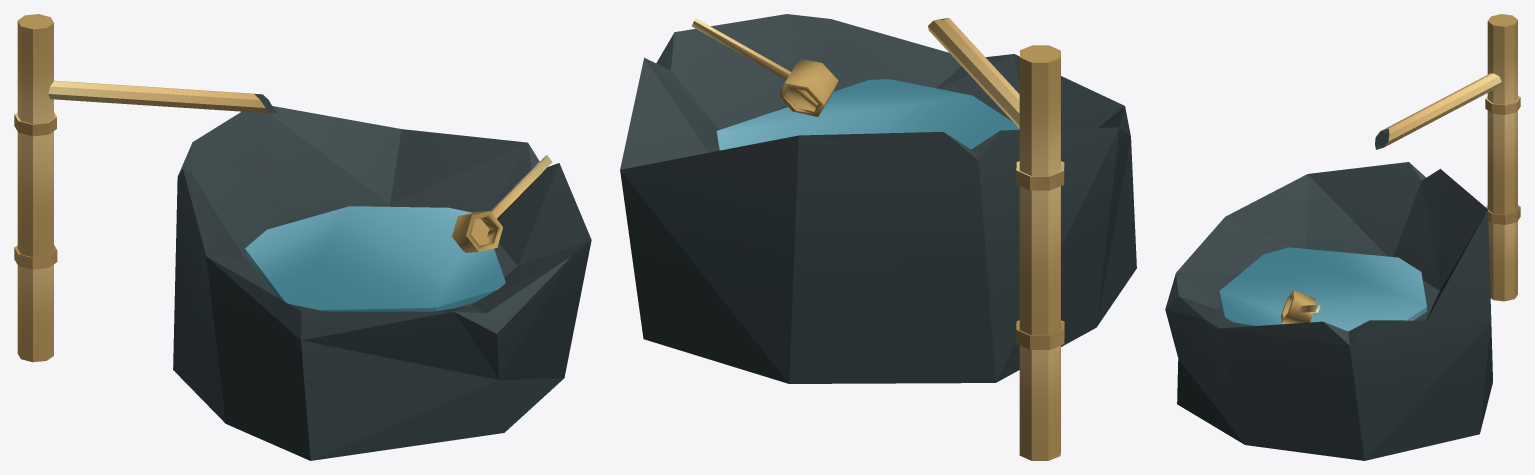
Rendered from WaterBasin.gltf.
3 views of the same model, side by side, from view 1: azimuth 30°, elevation 25°; view 2: azimuth 150°, elevation 25°; view 3: azimuth 270°, elevation 25° (orthographic). The views are drawn at different scales.
Parts seen in each view (by area): view 1: WaterBasin_Stone, WaterBasin_Water, WaterBasin_BambooOutlet, WaterBasin_Ladle; view 2: WaterBasin_Stone, WaterBasin_BambooOutlet, WaterBasin_Water, WaterBasin_Ladle; view 3: WaterBasin_Stone, WaterBasin_Water, WaterBasin_BambooOutlet, WaterBasin_Ladle.
Boxes of the visible parts, left/top/right/bottom form: WaterBasin_Stone: left=173, top=106, right=591, bottom=460; WaterBasin_Water: left=245, top=206, right=505, bottom=311; WaterBasin_BambooOutlet: left=14, top=14, right=277, bottom=362; WaterBasin_Ladle: left=452, top=155, right=552, bottom=252; WaterBasin_Stone: left=620, top=14, right=1136, bottom=383; WaterBasin_BambooOutlet: left=928, top=18, right=1064, bottom=460; WaterBasin_Water: left=716, top=79, right=1019, bottom=150; WaterBasin_Ladle: left=691, top=18, right=838, bottom=116; WaterBasin_Stone: left=1165, top=162, right=1492, bottom=460; WaterBasin_Water: left=1219, top=247, right=1426, bottom=331; WaterBasin_BambooOutlet: left=1375, top=14, right=1520, bottom=301; WaterBasin_Ladle: left=1281, top=290, right=1320, bottom=324.
Bounding box in the file's own units: 1.62 × 1.18 × 1.38.
1 material, 1 textured.
